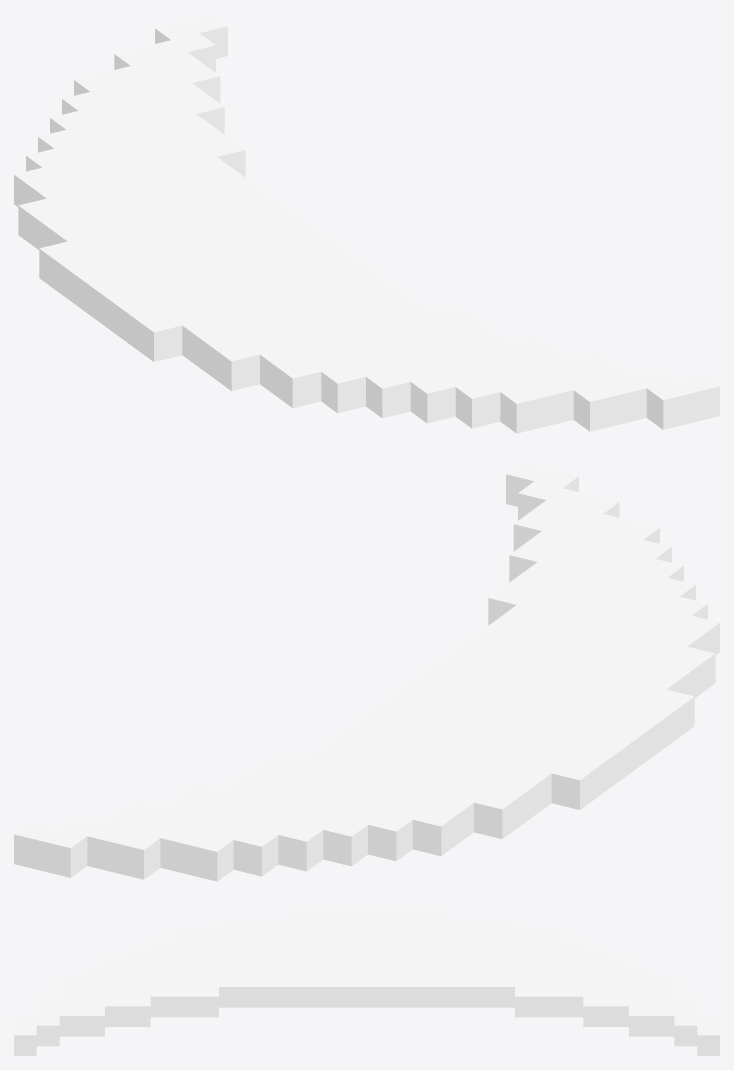
The model's file is 画戟-攻击效果.gltf.
The picture shows the model from 3 angles, top to bottom: view 1: azimuth 30°, elevation 25°; view 2: azimuth 150°, elevation 25°; view 3: azimuth 270°, elevation 25°; orthographic projection. The views are drawn at different scales.
Visible parts, largest first — view 1: Object; view 2: Object; view 3: Object.
Boxes of the visible parts, box(x1,y1,x2,y2) form: Object: box(14, 14, 719, 433); Object: box(14, 462, 719, 881); Object: box(14, 910, 719, 1055).
Bounding box in the file's own units: 13 × 1 × 31.
1 material, 1 textured.
